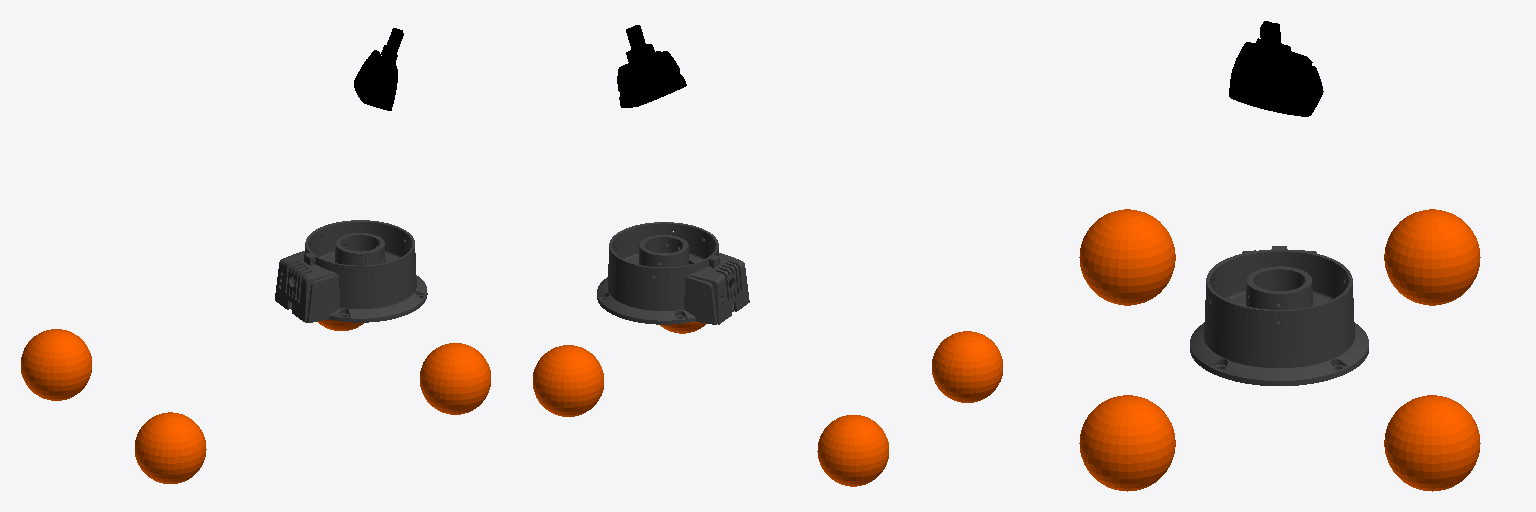
--- What the picture shows (computed from the rendered views, not written in the file) ---
The picture shows the robot from 3 angles, left to right: view 1: azimuth 30°, elevation 25°; view 2: azimuth 150°, elevation 25°; view 3: azimuth 270°, elevation 25°; orthographic projection.
Model youbot with 21 links and 20 joints (5 revolute, 8 continuous, 2 prismatic, 5 fixed), rooted at base_footprint, posed all joints at 0.
Visible links, largest first — view 1: arm_link_0, wheel_link_fr, wheel_link_bl, wheel_link_br, gripper_palm_link; view 2: arm_link_0, wheel_link_fl, wheel_link_br, wheel_link_bl, gripper_palm_link; view 3: arm_link_0, wheel_link_fl, wheel_link_fr, wheel_link_bl, wheel_link_br, gripper_palm_link, gripper_finger_link_l.
Link boxes in pixels (x1,y1,x2,y2): arm_link_0: (275,220,427,322); wheel_link_fr: (420,343,490,414); wheel_link_bl: (21,329,91,400); wheel_link_br: (135,412,206,483); gripper_palm_link: (354,50,397,110); arm_link_0: (597,222,749,324); wheel_link_fl: (533,345,603,416); wheel_link_br: (932,331,1002,402); wheel_link_bl: (817,415,888,486); gripper_palm_link: (617,51,686,107); arm_link_0: (1190,246,1368,385); wheel_link_fl: (1384,395,1480,491); wheel_link_fr: (1079,395,1175,491); wheel_link_bl: (1384,209,1480,305); wheel_link_br: (1079,209,1175,305); gripper_palm_link: (1229,42,1323,116); gripper_finger_link_l: (1268,23,1291,64).
Size in the robot's own frame: 0.556 by 0.416 by 0.527 metres.
4 mesh visuals loaded from 11 distinct referenced files (3 Collada DAE); not drawn: 8 (reference not matched to a file when rendering).

The robot description file, URDF, robot "youbot":
<?xml version="1.0" encoding="utf-8"?>
<!-- =================================================================================== -->
<!-- |    This document was autogenerated by xacro from youbot.urdf.xacro              | -->
<!-- |    EDITING THIS FILE BY HAND IS NOT RECOMMENDED                                 | -->
<!-- =================================================================================== -->
<robot name="youbot" xmlns:controller="http://playerstage.sourceforge.net/gazebo/xmlschema/#controller" xmlns:interface="http://playerstage.sourceforge.net/gazebo/xmlschema/#interface" xmlns:sensor="http://playerstage.sourceforge.net/gazebo/xmlschema/#sensor">
  &gt;

	
  <gazebo>
    <plugin filename="libgazebo_ros_control.so" name="gazebo_ros_controller"/>
  </gazebo>
  <material name="Orange">
    <color rgba="1.0 0.4 0.0 1.0"/>
  </material>
  <material name="Grey">
    <color rgba="0.7 0.7 0.7 1.0"/>
  </material>
  <material name="DarkGrey">
    <color rgba="0.3 0.3 0.3 1.0"/>
  </material>
  <material name="White">
    <color rgba="1.0 1.0 1.0 1.0"/>
  </material>
  <material name="Black">
    <color rgba="0.0 0.0 0.0 1.0"/>
  </material>
  <material name="Red">
    <color rgba="1.0 0.0 0.0 1.0"/>
  </material>
  <material name="Green">
    <color rgba="0.0 1.0 0.0 1.0"/>
  </material>
  <material name="Blue">
    <color rgba="0.0 0.0 0.8 1.0"/>
  </material>
  <material name="LightGrey">
    <color rgba="0.82 0.82 0.82 1.0"/>
  </material>
  <!-- Now we can start using the macros xacro:included above to define the actual youbot -->
  <!-- The first use of a macro.  This one was defined in base.urdf.xacro above.
       A macro like this will expand to a set of link and joint definitions, and to additional
       Gazebo-related extensions (sensor plugins, etc).  The macro takes an argument, name, 
       that equals "base", and uses it to generate names for its component links and joints 
       (e.g., base_link).  The xacro:included origin block is also an argument to the macro.  By convention, 
       the origin block defines where the component is w.r.t its parent (in this case the parent 
       is the world frame). For more, see http://www.ros.org/wiki/xacro -->
  <link name="base_footprint">
    <inertial>
      <mass value="0.1"/>
      <origin rpy="0 0 0" xyz="0 0 -0.05"/>
      <inertia ixx="1.0" ixy="0.0" ixz="0.0" iyy="1.0" iyz="0.0" izz="1.0"/>
    </inertial>
    <visual>
      <origin rpy="0 0 0" xyz="0 0 0"/>
      <geometry>
        <box size="0.001 0.001 0.001"/>
      </geometry>
      <material name="Red"/>
    </visual>
    <collision>
      <origin rpy="0 0 0" xyz="0 0 -0.05"/>
      <geometry>
        <box size="0.001 0.001 0.001"/>
      </geometry>
    </collision>
  </link>
  <joint name="base_footprint_joint" type="fixed">
    <origin rpy="0 0 0" xyz="0 0 0"/>
    <child link="base_link"/>
    <parent link="base_footprint"/>
  </joint>
  <link name="base_link">
    <inertial>
      <mass value="22.0"/>
      <origin xyz="0 0 0"/>
      <inertia ixx="5.652232699207" ixy="-0.009719934438" ixz="1.293988226423" iyy="5.669473158652" iyz="-0.007379583694" izz="3.683196351726"/>
    </inertial>
    <visual>
      <origin rpy="0 0 0" xyz="0 0 0"/>
      <geometry>
        <mesh filename="package://youbot_description/meshes/youbot_base/base.dae"/>
      </geometry>
      <material name="DarkGrey"/>
    </visual>
    <collision>
      <origin rpy="0 0 0" xyz="0 0 0"/>
      <geometry>
        <!--<box size="${base_size_x} ${base_size_y} ${base_size_z}" />-->
        <mesh filename="package://youbot_description/meshes/youbot_base/base_convex.dae"/>
      </geometry>
    </collision>
  </link>
  <!-- front left wheel -->
  <joint name="caster_joint_fl" type="continuous">
    <origin rpy="0 0 0" xyz="0.228 0.158 -0.034"/>
    <axis xyz="0 0 1"/>
    <limit effort="30" velocity="10"/>
    <dynamics damping="1.0" friction="1.0"/>
    <safety_controller k_velocity="10.0"/>
    <parent link="base_link"/>
    <child link="caster_link_fl"/>
  </joint>
  <link name="caster_link_fl">
    <inertial>
      <mass value="0.1"/>
      <origin xyz="0 0 0"/>
      <inertia ixx="0.012411765597" ixy="-0.000711733678" ixz="0.00050272983" iyy="0.015218160428" iyz="-0.000004273467" izz="0.011763977943"/>
    </inertial>
  </link>
  <joint name="wheel_joint_fl" type="continuous">
    <axis xyz="0 1 0"/>
    <limit effort="30" velocity="10"/>
    <origin rpy="0 0 0" xyz="0.0 0.0 0.0"/>
    <parent link="caster_link_fl"/>
    <dynamics damping="1.0" friction="1.0"/>
    <safety_controller k_velocity="10.0"/>
    <child link="wheel_link_fl"/>
  </joint>
  <link name="wheel_link_fl">
    <inertial>
      <mass value="0.4"/>
      <origin xyz="0 0 0"/>
      <inertia ixx="0.012411765597" ixy="-0.000711733678" ixz="0.00050272983" iyy="0.015218160428" iyz="-0.000004273467" izz="0.011763977943"/>
    </inertial>
    <visual>
      <origin rpy="0 0 0" xyz="0 0 0"/>
      <!--<mesh filename="package://youbot_description/meshes/youbot_base/youbot_wheel.stl" />-->
      <geometry>
        <sphere radius="0.05"/>
      </geometry>
      <material name="Orange"/>
    </visual>
    <collision>
      <origin rpy="1.57079632679 0 0" xyz="0 0 0"/>
      <geometry>
        <cylinder length="0.05" radius="0.05"/>
      </geometry>
    </collision>
  </link>
  <!-- front right wheel -->
  <joint name="caster_joint_fr" type="continuous">
    <origin rpy="0 0 0" xyz="0.228 -0.158 -0.034"/>
    <axis xyz="0 0 1"/>
    <limit effort="30" velocity="10"/>
    <dynamics damping="1.0" friction="1.0"/>
    <safety_controller k_velocity="10.0"/>
    <parent link="base_link"/>
    <child link="caster_link_fr"/>
  </joint>
  <link name="caster_link_fr">
    <inertial>
      <mass value="0.1"/>
      <origin xyz="0 0 0"/>
      <inertia ixx="0.012411765597" ixy="-0.000711733678" ixz="0.00050272983" iyy="0.015218160428" iyz="-0.000004273467" izz="0.011763977943"/>
    </inertial>
  </link>
  <joint name="wheel_joint_fr" type="continuous">
    <axis xyz="0 1 0"/>
    <limit effort="30" velocity="10"/>
    <dynamics damping="1.0" friction="1.0"/>
    <safety_controller k_velocity="10.0"/>
    <origin rpy="0 0 0" xyz="0.0 0.0 0.0"/>
    <parent link="caster_link_fr"/>
    <child link="wheel_link_fr"/>
  </joint>
  <link name="wheel_link_fr">
    <inertial>
      <mass value="0.4"/>
      <origin xyz="0 0 0"/>
      <inertia ixx="0.012411765597" ixy="-0.000711733678" ixz="0.00050272983" iyy="0.015218160428" iyz="-0.000004273467" izz="0.011763977943"/>
    </inertial>
    <visual>
      <origin rpy="0 0 0" xyz="0 0 0"/>
      <geometry>
        <!--<mesh filename="package://youbot_description/meshes/youbot_base/youbot_wheel.stl" />-->
        <sphere radius="0.05"/>
      </geometry>
      <material name="Orange"/>
    </visual>
    <collision>
      <origin rpy="1.57079632679 0 0" xyz="0 0 0"/>
      <geometry>
        <cylinder length="0.05" radius="0.05"/>
      </geometry>
    </collision>
  </link>
  <!-- back left wheel -->
  <joint name="caster_joint_bl" type="continuous">
    <origin rpy="0 0 0" xyz="-0.228 0.158 -0.034"/>
    <axis xyz="0 0 1"/>
    <limit effort="30" velocity="10"/>
    <dynamics damping="1.0" friction="1.0"/>
    <safety_controller k_velocity="10.0"/>
    <parent link="base_link"/>
    <child link="caster_link_bl"/>
  </joint>
  <link name="caster_link_bl">
    <inertial>
      <mass value="0.1"/>
      <origin xyz="0 0 0"/>
      <inertia ixx="0.012411765597" ixy="-0.000711733678" ixz="0.00050272983" iyy="0.015218160428" iyz="-0.000004273467" izz="0.011763977943"/>
    </inertial>
  </link>
  <joint name="wheel_joint_bl" type="continuous">
    <axis xyz="0 1 0"/>
    <limit effort="10" velocity="10"/>
    <limit effort="30" velocity="10"/>
    <dynamics damping="1.0" friction="1.0"/>
    <safety_controller k_velocity="10.0"/>
    <origin rpy="0 0 0" xyz="0.0 0.0 0.0"/>
    <parent link="caster_link_bl"/>
    <child link="wheel_link_bl"/>
  </joint>
  <link name="wheel_link_bl">
    <inertial>
      <mass value="0.4"/>
      <origin xyz="0 0 0"/>
      <inertia ixx="0.012411765597" ixy="-0.000711733678" ixz="0.00050272983" iyy="0.015218160428" iyz="-0.000004273467" izz="0.011763977943"/>
    </inertial>
    <visual>
      <origin rpy="0 0 0" xyz="0 0 0"/>
      <geometry>
        <!--<mesh filename="package://youbot_description/meshes/youbot_base/youbot_wheel.stl" />-->
        <sphere radius="0.05"/>
      </geometry>
      <material name="Orange"/>
    </visual>
    <collision>
      <origin rpy="1.57079632679 0 0" xyz="0 0 0"/>
      <geometry>
        <cylinder length="0.05" radius="0.05"/>
      </geometry>
    </collision>
  </link>
  <!-- back right wheel -->
  <joint name="caster_joint_br" type="continuous">
    <origin rpy="0 0 0" xyz="-0.228 -0.158 -0.034"/>
    <axis xyz="0 0 1"/>
    <limit effort="30" velocity="10"/>
    <dynamics damping="1.0" friction="1.0"/>
    <safety_controller k_velocity="10.0"/>
    <parent link="base_link"/>
    <child link="caster_link_br"/>
  </joint>
  <link name="caster_link_br">
    <inertial>
      <mass value="0.1"/>
      <origin xyz="0 0 0"/>
      <inertia ixx="0.012411765597" ixy="-0.000711733678" ixz="0.00050272983" iyy="0.015218160428" iyz="-0.000004273467" izz="0.011763977943"/>
    </inertial>
  </link>
  <joint name="wheel_joint_br" type="continuous">
    <axis xyz="0 1 0"/>
    <limit effort="30" velocity="10"/>
    <dynamics damping="1.0" friction="1.0"/>
    <safety_controller k_velocity="10.0"/>
    <origin rpy="0 0 0" xyz="0.0 0.0 0.0"/>
    <parent link="caster_link_br"/>
    <child link="wheel_link_br"/>
  </joint>
  <link name="wheel_link_br">
    <inertial>
      <mass value="0.4"/>
      <origin xyz="0 0 0"/>
      <inertia ixx="0.012411765597" ixy="-0.000711733678" ixz="0.00050272983" iyy="0.015218160428" iyz="-0.000004273467" izz="0.011763977943"/>
    </inertial>
    <visual>
      <origin rpy="0 0 0" xyz="0 0 0"/>
      <geometry>
        <!--<mesh filename="package://youbot_description/meshes/youbot_base/youbot_wheel.stl" />-->
        <sphere radius="0.05"/>
      </geometry>
      <material name="Orange"/>
    </visual>
    <collision>
      <origin rpy="1.57079632679 0 0" xyz="0 0 0"/>
      <geometry>
        <cylinder length="0.05" radius="0.05"/>
      </geometry>
    </collision>
  </link>
  <gazebo reference="youbot_base">
    <material value="youbot/DarkGrey"/>
  </gazebo>
  <!-- front left wheel -->
  <gazebo reference="wheel_link_fl">
    <material value="youbot/Orange"/>
    <kp>1000000</kp>
    <kd>100</kd>
  </gazebo>
  <gazebo reference="caster_link_fl">
    <material value="youbot/Orange"/>
  </gazebo>
  <!-- front right wheel -->
  <gazebo reference="wheel_link_fr">
    <material value="youbot/Orange"/>
    <kp>1000000</kp>
    <kd>100</kd>
  </gazebo>
  <gazebo reference="caster_link_fr">
    <material value="youbot/Orange"/>
  </gazebo>
  <!-- back left wheel -->
  <gazebo reference="wheel_link_bl">
    <material value="youbot/Orange"/>
    <kp>1000000</kp>
    <kd>100</kd>
  </gazebo>
  <gazebo reference="caster_link_bl">
    <material value="youbot/Orange"/>
  </gazebo>
  <!-- back right wheel -->
  <gazebo reference="wheel_link_br">
    <material value="youbot/Orange"/>
    <kp>1000000</kp>
    <kd>100</kd>
  </gazebo>
  <gazebo reference="caster_link_br">
    <material value="youbot/Orange"/>
  </gazebo>
  <!-- position controller -->
  <gazebo>
    <plugin filename="libgazebo_ros_planar_move.so" name="base_controller">
      <commandTopic>cmd_vel</commandTopic>
      <odometryTopic>odom</odometryTopic>
      <odometryFrame>odom</odometryFrame>
      <odometryRate>100.0</odometryRate>
      <robotBaseFrame>base_footprint</robotBaseFrame>
    </plugin>
  </gazebo>
  <!-- front left wheel -->
  <transmission name="wheel_trans_fl">
    <type>transmission_interface/SimpleTransmission</type>
    <actuator name="wheel_motor_fl">
      <hardwareInterface>VelocityJointInterface</hardwareInterface>
      <mechanicalReduction>79.2380952381</mechanicalReduction>
    </actuator>
    <joint name="wheel_joint_fl">
      <hardwareInterface>VelocityJointInterface</hardwareInterface>
    </joint>
  </transmission>
  <transmission name="caster_trans_fl">
    <type>transmission_interface/SimpleTransmission</type>
    <actuator name="caster_motor_fl">
      <hardwareInterface>VelocityJointInterface</hardwareInterface>
      <mechanicalReduction>79.2380952381</mechanicalReduction>
    </actuator>
    <joint name="caster_joint_fl">
      <hardwareInterface>VelocityJointInterface</hardwareInterface>
    </joint>
  </transmission>
  <!-- front right wheel -->
  <transmission name="wheel_trans_fr">
    <type>transmission_interface/SimpleTransmission</type>
    <actuator name="wheel_motor_fr">
      <hardwareInterface>VelocityJointInterface</hardwareInterface>
      <mechanicalReduction>79.2380952381</mechanicalReduction>
    </actuator>
    <joint name="wheel_joint_fr">
      <hardwareInterface>VelocityJointInterface</hardwareInterface>
    </joint>
  </transmission>
  <transmission name="caster_trans_fr">
    <type>transmission_interface/SimpleTransmission</type>
    <actuator name="caster_motor_fr">
      <hardwareInterface>VelocityJointInterface</hardwareInterface>
      <mechanicalReduction>79.2380952381</mechanicalReduction>
    </actuator>
    <joint name="caster_joint_fr">
      <hardwareInterface>VelocityJointInterface</hardwareInterface>
    </joint>
  </transmission>
  <!-- back left wheel -->
  <transmission name="wheel_trans_bl">
    <type>transmission_interface/SimpleTransmission</type>
    <actuator name="wheel_motor_bl">
      <hardwareInterface>VelocityJointInterface</hardwareInterface>
      <mechanicalReduction>79.2380952381</mechanicalReduction>
    </actuator>
    <joint name="wheel_joint_bl">
      <hardwareInterface>VelocityJointInterface</hardwareInterface>
    </joint>
  </transmission>
  <transmission name="caster_trans_bl">
    <type>transmission_interface/SimpleTransmission</type>
    <actuator name="caster_motor_bl">
      <hardwareInterface>VelocityJointInterface</hardwareInterface>
      <mechanicalReduction>79.2380952381</mechanicalReduction>
    </actuator>
    <joint name="caster_joint_bl">
      <hardwareInterface>VelocityJointInterface</hardwareInterface>
    </joint>
  </transmission>
  <!-- back right wheel -->
  <transmission name="wheel_trans_br">
    <type>transmission_interface/SimpleTransmission</type>
    <actuator name="wheel_motor_br">
      <hardwareInterface>VelocityJointInterface</hardwareInterface>
      <mechanicalReduction>79.2380952381</mechanicalReduction>
    </actuator>
    <joint name="wheel_joint_br">
      <hardwareInterface>VelocityJointInterface</hardwareInterface>
    </joint>
  </transmission>
  <transmission name="caster_trans_br">
    <type>transmission_interface/SimpleTransmission</type>
    <actuator name="caster_motor_br">
      <hardwareInterface>VelocityJointInterface</hardwareInterface>
      <mechanicalReduction>79.2380952381</mechanicalReduction>
    </actuator>
    <joint name="caster_joint_br">
      <hardwareInterface>VelocityJointInterface</hardwareInterface>
    </joint>
  </transmission>
  <!-- joint between arm_7_link and sdh_palm_link -->
  <joint name="plate_joint" type="fixed">
    <origin rpy="0 0 0" xyz="-0.159 0 0.046"/>
    <parent link="base_link"/>
    <child link="plate_link"/>
  </joint>
  <link name="plate_link">
    <inertial>
      <origin rpy="0 0 0" xyz="0 0 0"/>
      <mass value="1"/>
      <inertia ixx="0.01" ixy="0" ixz="0" iyy="0.01" iyz="0" izz="0.01"/>
    </inertial>
    <visual>
      <origin rpy="0 0 0" xyz="0 0 0"/>
      <geometry>
        <mesh filename="package://youbot_description/meshes/youbot_plate/plate.dae"/>
      </geometry>
      <material name="DarkGrey"/>
    </visual>
    <collision>
      <origin rpy="0 0 0" xyz="0 0 0"/>
      <geometry>
        <mesh filename="package://youbot_description/meshes/youbot_plate/plate_convex.dae"/>
      </geometry>
    </collision>
  </link>
  <!-- extensions -->
  <!-- joint between base_link and arm_0_link -->
  <joint name="arm_joint_0" type="fixed">
    <origin rpy="0 0 0" xyz="0.143 0 0.046"/>
    <parent link="base_link"/>
    <child link="arm_link_0"/>
  </joint>
  <link name="arm_link_0">
    <inertial>
      <!--<origin xyz="0.023 0 0.006" rpy="0 0 0"/>-->
      <origin rpy="0 0 0" xyz="0 0 0"/>
      <mass value="0.845"/>
      <inertia ixx="0.01" ixy="0" ixz="0" iyy="0.01" iyz="0" izz="0.01"/>
    </inertial>
    <visual>
      <origin rpy="0 0 0" xyz="0 0 0"/>
      <geometry>
        <mesh filename="package://youbot_description/meshes/youbot_arm/arm0.dae"/>
      </geometry>
      <material name="DarkGrey"/>
    </visual>
    <collision>
      <!--<origin xyz="0.023 0 0.006" rpy="0 0 0"/>-->
      <origin rpy="0 0 0" xyz="0 0 0"/>
      <geometry>
        <mesh filename="package://youbot_description/meshes/youbot_arm/arm0_convex.dae"/>
        <!--<cylinder length="0.078" radius="0.093"/>-->
      </geometry>
    </collision>
  </link>
  <!-- joint between arm_0_link and arm_1_link -->
  <joint name="arm_joint_1" type="revolute">
    <origin rpy="0 0 2.96705972839" xyz="0.024 0 0.096"/>
    <parent link="arm_link_0"/>
    <child link="arm_link_1"/>
    <axis xyz="0 0 -1"/>
    <!--<calibration rising="${arm_1_ref}" falling="${arm_1_ref}"/>-->
    <dynamics damping="1" friction="1"/>
    <!-- damping - N*s/m, N*s*m/rad -->
    <!-- friction - N, N*m -->
    <limit effort="9.5" lower="0" upper="5.89921287174" velocity="1.57079632679"/>
    <!--effort - N, N*m-->
    <!--velocity - m/s, rad/s-->
    <safety_controller k_position="20" k_velocity="1.51197195937" soft_lower_limit="0.001" soft_upper_limit="5.89821287174"/>
    <!--k_position N/m, N/rad-->
    <!--k_velocity N*s/m, N*s*m/rad-->
    <!--for details: http://www.ros.org/wiki/pr2_controller_manager/safety_limits-->
  </joint>
  <link name="arm_link_1">
    <inertial>
      <mass value="2.412"/>
      <origin rpy="0 0 0" xyz="0.01489 0.00213 0.00213"/>
      <inertia ixx="0.003863" ixy="-0.000979" ixz="0.000000" iyy="0.006196" iyz="0.000000" izz="0.006369"/>
    </inertial>
    <visual>
      <origin rpy="0 0 0" xyz="0 0 0"/>
      <geometry>
        <mesh filename="package://youbot_description/meshes/youbot_arm/arm1.dae"/>
      </geometry>
      <!--<material name="Orange" />-->
    </visual>
    <collision>
      <!--<origin xyz="0 0 -0.003" rpy="0 0 0" />-->
      <origin rpy="0 0 0" xyz="0 0 0"/>
      <geometry>
        <mesh filename="package://youbot_description/meshes/youbot_arm/arm1_convex.dae"/>
        <!--<cylinder length="0.102" radius="0.080"/>-->
      </geometry>
    </collision>
  </link>
  <!-- joint between arm_1_link and arm_2_link -->
  <joint name="arm_joint_2" type="revolute">
    <origin rpy="0 -1.1344640138 0" xyz="0.033 0 0.019"/>
    <parent link="arm_link_1"/>
    <child link="arm_link_2"/>
    <axis xyz="0 1 0"/>
    <!--<calibration rising="${arm_2_ref}" falling="${arm_2_ref}"/>-->
    <dynamics damping="1" friction="1"/>
    <limit effort="9.5" lower="0" upper="2.70526034059" velocity="1.57079632679"/>
    <safety_controller k_position="20" k_velocity="6.04788783749" soft_lower_limit="0.001" soft_upper_limit="2.70426034059"/>
  </joint>
  <link name="arm_link_2">
    <inertial>
      <mass value="1.155"/>
      <origin rpy="0 0 0" xyz="0.10453 0.0017 -0.00297"/>
      <inertia ixx="0.000823" ixy="0.000000" ixz="-0.000000" iyy="0.004447" iyz="0.000000" izz="0.004439"/>
    </inertial>
    <visual>
      <origin rpy="0 0 0" xyz="0 -0.032 0.078"/>
      <geometry>
        <mesh filename="package://youbot_description/meshes/youbot_arm/arm2.dae"/>
      </geometry>
      <material name="Orange"/>
    </visual>
    <collision>
      <!--<origin xyz="0.001 -0.041 0.074" rpy="0 0 0" />-->
      <origin rpy="0 0 0" xyz="0 -0.032 0.078"/>
      <geometry>
        <mesh filename="package://youbot_description/meshes/youbot_arm/arm2_convex.dae"/>
        <!--<box size="0.074 0.082 0.222"/>-->
      </geometry>
    </collision>
  </link>
  <!-- joint between arm_2_link and arm_3_link -->
  <!--<joint name="${name}_joint_3" type="revolute">
			<origin xyz="0.000 0.000 0.155" rpy="0 ${146 * M_PI / 180} 0"/>
			<parent link="${name}_link_2"/>
			<child link="${name}_link_3"/>
			<axis xyz="0 1 0"/>
			<dynamics damping="1" friction="1" />
			<limit effort="${6}" velocity="${M_PI / 2.0}" lower="-${joint_3_limit}" upper="0"/>
                        <safety_controller k_position="20" k_velocity="50" soft_lower_limit="-${joint_3_limit_soft}" soft_upper_limit="${threshold}" />
		</joint>-->
  <joint name="arm_joint_3" type="revolute">
    <origin rpy="0 2.54818070791 0" xyz="0.000 0.000 0.155"/>
    <parent link="arm_link_2"/>
    <child link="arm_link_3"/>
    <axis xyz="0 1 0"/>
    <dynamics damping="1" friction="1"/>
    <limit effort="6" lower="-5.18362787842" upper="0" velocity="1.57079632679"/>
    <safety_controller k_position="20" k_velocity="50" soft_lower_limit="-5.18262787842" soft_upper_limit="-0.001"/>
  </joint>
  <link name="arm_link_3">
    <inertial>
      <mass value="0.934"/>
      <origin rpy="0 0 0" xyz="0.0001 0.0967 0.02107"/>
      <inertia ixx="0.002459" ixy="0.000000" ixz="0.000000" iyy="0.002571" iyz="-0.000000" izz="0.000535"/>
    </inertial>
    <visual>
      <origin rpy="0 0 0" xyz="0.000 0.028 0.079"/>
      <geometry>
        <mesh filename="package://youbot_description/meshes/youbot_arm/arm3.dae"/>
      </geometry>
      <material name="Orange"/>
    </visual>
    <collision>
      <!--<origin xyz="0.000 0.025 0.067" rpy="0 0 0" />-->
      <origin rpy="0 0 0" xyz="0.000 0.028 0.079"/>
      <geometry>
        <mesh filename="package://youbot_description/meshes/youbot_arm/arm3_convex.dae"/>
        <!--<box size="0.064 0.054 0.192"/>-->
      </geometry>
    </collision>
  </link>
  <!-- joint between arm_3_link and arm_4_link -->
  <joint name="arm_joint_4" type="revolute">
    <origin rpy="0 -1.78896248329 0" xyz="0.000 0.000 0.135"/>
    <parent link="arm_link_3"/>
    <child link="arm_link_4"/>
    <axis xyz="0 1 0"/>
    <!--<calibration rising="${arm_4_ref}" falling="${arm_4_ref}"/>-->
    <dynamics damping="1" friction="1"/>
    <limit effort="2" lower="0" upper="3.57792496659" velocity="1.57079632679"/>
    <safety_controller k_position="20" k_velocity="100" soft_lower_limit="0" soft_upper_limit="3.57692496659"/>
  </joint>
  <link name="arm_link_4">
    <inertial>
      <mass value="0.877"/>
      <origin rpy="0 0 0" xyz="0.00011 0.05103 -0.02319"/>
      <inertia ixx="0.000869" ixy="0.000000" ixz="-0.000000" iyy="0.001173" iyz="-0.000231" izz="0.001091"/>
    </inertial>
    <visual>
      <origin rpy="0 0 0" xyz="0 -0.010 0.029"/>
      <geometry>
        <mesh filename="package://youbot_description/meshes/youbot_arm/arm4.dae"/>
      </geometry>
      <material name="Orange"/>
    </visual>
    <collision>
      <!--<origin xyz="0 0 0.026" rpy="0 0 0" />-->
      <origin rpy="0 0 0" xyz="0 -0.010 0.029"/>
      <geometry>
        <mesh filename="package://youbot_description/meshes/youbot_arm/arm4_convex.dae"/>
        <!--<box size="0.058 0.100 0.118"/>-->
      </geometry>
    </collision>
  </link>
  <!-- joint between arm_4_link and arm_5_link -->
  <joint name="arm_joint_5" type="revolute">
    <origin rpy="0 0 2.92342649709" xyz="-0.002 0 0.130"/>
    <parent link="arm_link_4"/>
    <child link="arm_link_5"/>
    <axis xyz="0 0 -1"/>
    <!--<calibration rising="${arm_5_ref}" falling="${arm_5_ref}"/>-->
    <dynamics damping="1" friction="1"/>
    <limit effort="1" lower="0" upper="5.84685299418" velocity="1.57079632679"/>
    <safety_controller k_position="20" k_velocity="100" soft_lower_limit="0" soft_upper_limit="5.84585299418"/>
  </joint>
  <link name="arm_link_5">
    <inertial>
      <mass value="0.251"/>
      <origin rpy="0 0 0" xyz="0.0 0.00115 -0.01683"/>
      <inertia ixx="0.000280" ixy="0.000000" ixz="0.000000" iyy="0.000339" iyz="0.000000" izz="0.000119"/>
    </inertial>
    <visual>
      <origin rpy="0 0 0" xyz="0.003 0 -0.034"/>
      <geometry>
        <mesh filename="package://youbot_description/meshes/youbot_arm/arm5.dae"/>
      </geometry>
      <material name="DarkGrey"/>
    </visual>
    <collision>
      <origin rpy="0 0 0" xyz="0.003 0 -0.034"/>
      <geometry>
        <mesh filename="package://youbot_description/meshes/youbot_arm/arm5_convex.dae"/>
        <!--<box size="0.054 0.096 0.030"/>-->
      </geometry>
    </collision>
  </link>
  <gazebo reference="arm_link_0">
    <material value="youbot/DarkGrey"/>
    <turnGravityOff>false</turnGravityOff>
  </gazebo>
  <gazebo reference="arm_link_1">
    <!--<material value="youbot/Orange" />-->
    <turnGravityOff>false</turnGravityOff>
  </gazebo>
  <gazebo reference="arm_link_2">
    <!--<material value="youbot/Orange" />-->
    <turnGravityOff>false</turnGravityOff>
  </gazebo>
  <gazebo reference="arm_link_3">
    <!--<material value="youbot/Orange" />-->
    <turnGravityOff>false</turnGravityOff>
  </gazebo>
  <gazebo reference="arm_link_4">
    <!--<material value="youbot/Orange" />-->
    <turnGravityOff>false</turnGravityOff>
  </gazebo>
  <gazebo reference="arm_link_5">
    <!--<material value="youbot/DarkGrey" />-->
    <turnGravityOff>false</turnGravityOff>
  </gazebo>
  <transmission name="arm_trans_1">
    <type>transmission_interface/SimpleTransmission</type>
    <actuator name="arm_motor_1">
      <hardwareInterface>EffortJointInterface</hardwareInterface>
      <mechanicalReduction>1</mechanicalReduction>
    </actuator>
    <joint name="arm_joint_1">
      <hardwareInterface>EffortJointInterface</hardwareInterface>
    </joint>
  </transmission>
  <transmission name="arm_trans_2">
    <type>transmission_interface/SimpleTransmission</type>
    <actuator name="arm_motor_2">
      <hardwareInterface>EffortJointInterface</hardwareInterface>
      <mechanicalReduction>1</mechanicalReduction>
    </actuator>
    <joint name="arm_joint_2">
      <hardwareInterface>EffortJointInterface</hardwareInterface>
    </joint>
  </transmission>
  <transmission name="arm_trans_3">
    <type>transmission_interface/SimpleTransmission</type>
    <actuator name="arm_motor_3">
      <hardwareInterface>EffortJointInterface</hardwareInterface>
      <mechanicalReduction>1</mechanicalReduction>
    </actuator>
    <joint name="arm_joint_3">
      <hardwareInterface>EffortJointInterface</hardwareInterface>
    </joint>
  </transmission>
  <transmission name="arm_trans_4">
    <type>transmission_interface/SimpleTransmission</type>
    <actuator name="arm_motor_4">
      <hardwareInterface>EffortJointInterface</hardwareInterface>
      <mechanicalReduction>1</mechanicalReduction>
    </actuator>
    <joint name="arm_joint_4">
      <hardwareInterface>EffortJointInterface</hardwareInterface>
    </joint>
  </transmission>
  <transmission name="arm_trans_5">
    <type>transmission_interface/SimpleTransmission</type>
    <actuator name="arm_motor_5">
      <hardwareInterface>EffortJointInterface</hardwareInterface>
      <mechanicalReduction>1</mechanicalReduction>
    </actuator>
    <joint name="arm_joint_5">
      <hardwareInterface>EffortJointInterface</hardwareInterface>
    </joint>
  </transmission>
  <!-- joint between arm_7_link and sdh_palm_link -->
  <joint name="gripper_palm_joint" type="fixed">
    <origin rpy="0 0 0" xyz="0 0 0"/>
    <parent link="arm_link_5"/>
    <child link="gripper_palm_link"/>
  </joint>
  <link name="gripper_palm_link">
    <inertial>
      <origin rpy="0 0 0" xyz="0 0 0"/>
      <mass value="0.1"/>
      <inertia ixx="0.01" ixy="0" ixz="0" iyy="0.01" iyz="0" izz="0.01"/>
    </inertial>
    <visual>
      <origin rpy="0 0 0" xyz="0 0 0"/>
      <geometry>
        <mesh filename="package://youbot_description/meshes/youbot_gripper/palm.dae"/>
      </geometry>
      <material name="Black"/>
    </visual>
    <collision>
      <origin rpy="0 0 0" xyz="0 0 0"/>
      <geometry>
        <!--<box size="0.050 0.094 0.054"/>-->
        <mesh filename="package://youbot_description/meshes/youbot_gripper/palm_convex.dae"/>
      </geometry>
    </collision>
  </link>
  <joint name="gripper_finger_joint_l" type="prismatic">
    <origin rpy="0 0 3.14159265359" xyz="0.004 0.008 0.046"/>
    <parent link="gripper_palm_link"/>
    <child link="gripper_finger_link_l"/>
    <axis xyz="0 -1 0"/>
    <dynamics damping="1.0" friction="1.0"/>
    <limit effort="1" lower="0" upper="0.0115" velocity="0.1"/>
    <safety_controller k_position="20" k_velocity="25" soft_lower_limit="0.001" soft_upper_limit="0.011"/>
  </joint>
  <link name="gripper_finger_link_l">
    <inertial>
      <origin rpy="0 0 0" xyz="0 -0.001 0"/>
      <mass value="0.01"/>
      <inertia ixx="0.01" ixy="0" ixz="0" iyy="0.01" iyz="0" izz="0.01"/>
    </inertial>
    <visual>
      <origin rpy="0 0 0" xyz="0 0 0"/>
      <geometry>
        <mesh filename="package://youbot_description/meshes/youbot_gripper/finger.dae"/>
      </geometry>
      <material name="Black"/>
    </visual>
    <collision>
      <origin rpy="0 0 0" xyz="0 0 0"/>
      <geometry>
        <!--<box size="0.014 0.020 0.046"/>-->
        <mesh filename="package://youbot_description/meshes/youbot_gripper/finger_convex.dae"/>
      </geometry>
    </collision>
  </link>
  <joint name="gripper_finger_joint_r" type="prismatic">
    <origin rpy="0 0 0" xyz="0.004 -0.008 0.046"/>
    <parent link="gripper_palm_link"/>
    <child link="gripper_finger_link_r"/>
    <axis xyz="0 -1 0"/>
    <dynamics damping="1.0" friction="1.0"/>
    <limit effort="1" lower="0" upper="0.0115" velocity="0.1"/>
    <safety_controller k_position="20" k_velocity="25" soft_lower_limit="0.001" soft_upper_limit="0.011"/>
  </joint>
  <link name="gripper_finger_link_r">
    <inertial>
      <origin rpy="0 0 0" xyz="0.000 -0.001 0"/>
      <mass value="0.01"/>
      <inertia ixx="0.01" ixy="0" ixz="0" iyy="0.01" iyz="0" izz="0.01"/>
    </inertial>
    <visual>
      <origin rpy="0 0 0" xyz="0 0 0"/>
      <geometry>
        <mesh filename="package://youbot_description/meshes/youbot_gripper/finger.dae"/>
      </geometry>
      <material name="Black"/>
    </visual>
    <collision>
      <origin rpy="0 0 0" xyz="0.000 0 0"/>
      <geometry>
        <!--<box size="0.014 0.020 0.046"/>-->
        <mesh filename="package://youbot_description/meshes/youbot_gripper/finger_convex.dae"/>
      </geometry>
    </collision>
  </link>
  <gazebo reference="gripper_palm_link">
    <material>Gazebo/Black</material>
    <turnGravityOff>false</turnGravityOff>
    <selfCollide>true</selfCollide>
  </gazebo>
  <gazebo reference="gripper_finger_l_link">
    <material>Gazebo/Black</material>
    <turnGravityOff>false</turnGravityOff>
    <selfCollide>true</selfCollide>
  </gazebo>
  <gazebo reference="gripper_finger_r_link">
    <material>Gazebo/Black</material>
    <turnGravityOff>false</turnGravityOff>
    <selfCollide>true</selfCollide>
  </gazebo>
  <transmission name="gripper_finger_l_trans">
    <type>transmission_interface/SimpleTransmission</type>
    <actuator name="gripper_finger_l_motor">
      <hardwareInterface>EffortJointInterface</hardwareInterface>
      <mechanicalReduction>1</mechanicalReduction>
    </actuator>
    <joint name="gripper_finger_joint_l">
      <hardwareInterface>EffortJointInterface</hardwareInterface>
    </joint>
  </transmission>
  <transmission name="gripper_finger_r_trans">
    <type>transmission_interface/SimpleTransmission</type>
    <actuator name="gripper_finger_r_motor">
      <hardwareInterface>EffortJointInterface</hardwareInterface>
      <mechanicalReduction>1</mechanicalReduction>
    </actuator>
    <joint name="gripper_finger_joint_r">
      <hardwareInterface>EffortJointInterface</hardwareInterface>
    </joint>
  </transmission>
  <joint name="base_laser_front_hokuyo_urg04_laser_joint" type="fixed">
    <axis xyz="0 1 0"/>
    <origin rpy="0 0 0" xyz="0.3 0 -0.03"/>
    <parent link="base_link"/>
    <child link="base_laser_front_link"/>
  </joint>
  <link name="base_laser_front_link" type="laser">
    <inertial>
      <mass value="0.16"/>
      <origin rpy="0 0 0" xyz="0 0 0"/>
      <inertia ixx="0.1" ixy="0" ixz="0" iyy="0.1" iyz="0" izz="0.1"/>
    </inertial>
    <visual>
      <origin rpy="0 0 0" xyz="0 0 0"/>
      <geometry>
        <mesh filename="package://youbot_description/meshes/sensors/hokuyo.dae"/>
      </geometry>
      <material name="DarkGrey"/>
    </visual>
    <collision>
      <origin rpy="0 0 0" xyz="0 0 0"/>
      <geometry>
        <mesh filename="package://youbot_description/meshes/sensors/hokuyo_convex.dae"/>
      </geometry>
    </collision>
  </link>
  <gazebo reference="base_laser_front_link">
    <sensor name="base_laser_front" type="ray">
      <always_on>true</always_on>
      <update_rate>10</update_rate>
      <pose>0 0 0 0 0 0</pose>
      <visualize>false</visualize>
      <ray>
        <scan>
          <horizontal>
            <samples>150</samples>
            <resolution>1.0</resolution>
            <min_angle>-1.57</min_angle>
            <max_angle>1.57</max_angle>
          </horizontal>
        </scan>
        <range>
          <min>0.05</min>
          <max>5.6</max>
          <resolution>0.36</resolution>
        </range>
      </ray>
      <plugin filename="libgazebo_ros_laser.so" name="gazebo_ros_base_laser_front_controller">
        <gaussianNoise>0.005</gaussianNoise>
        <alwaysOn>true</alwaysOn>
        <updateRate>10</updateRate>
        <topicName>base_scan</topicName>
        <frameName>/base_laser_front_link</frameName>
      </plugin>
    </sensor>
  </gazebo>
</robot>
